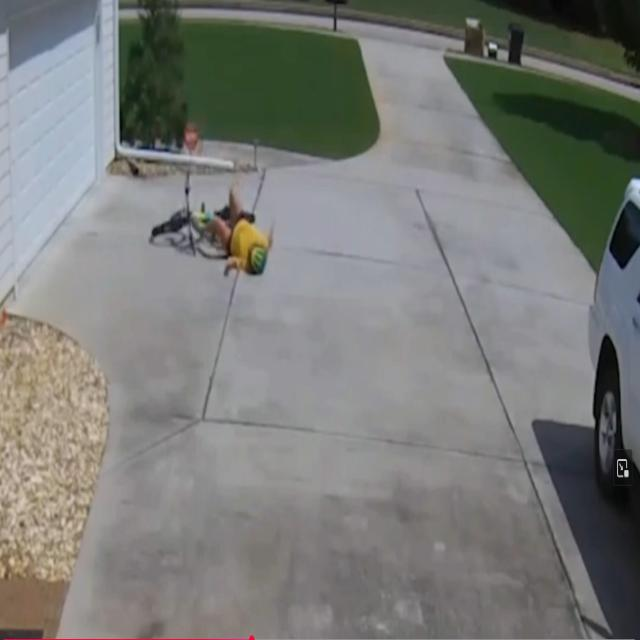fallen: (205, 185, 273, 275)
